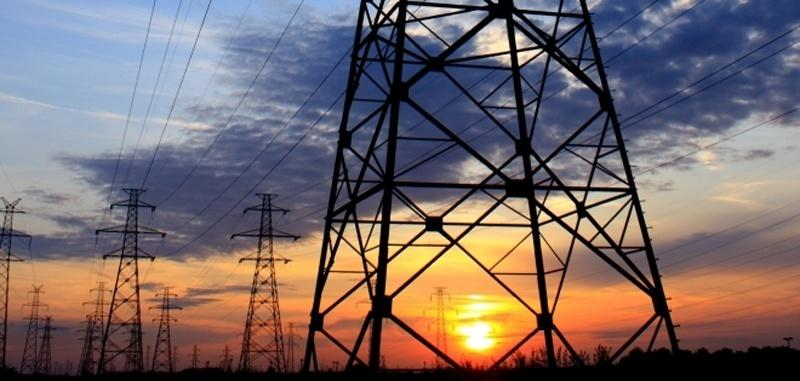power_tower: (318, 4, 688, 364), (212, 174, 295, 366), (79, 185, 157, 369)
